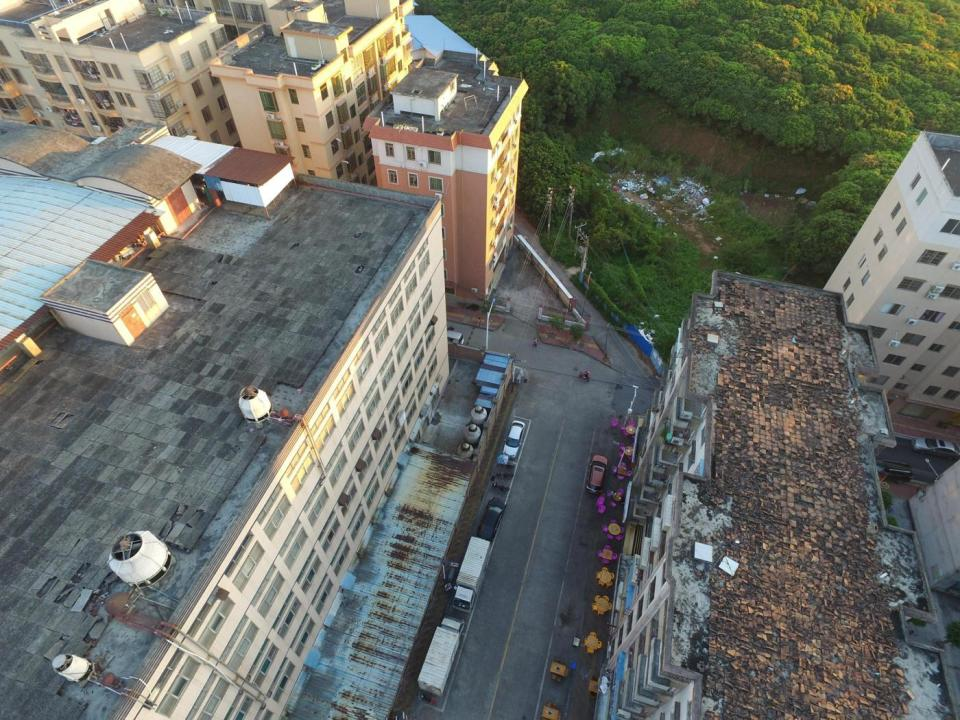car: (478, 496, 507, 541), (585, 454, 609, 496), (501, 420, 525, 460)
truck: (416, 614, 466, 698), (452, 533, 492, 612)
van: (441, 330, 464, 345)
